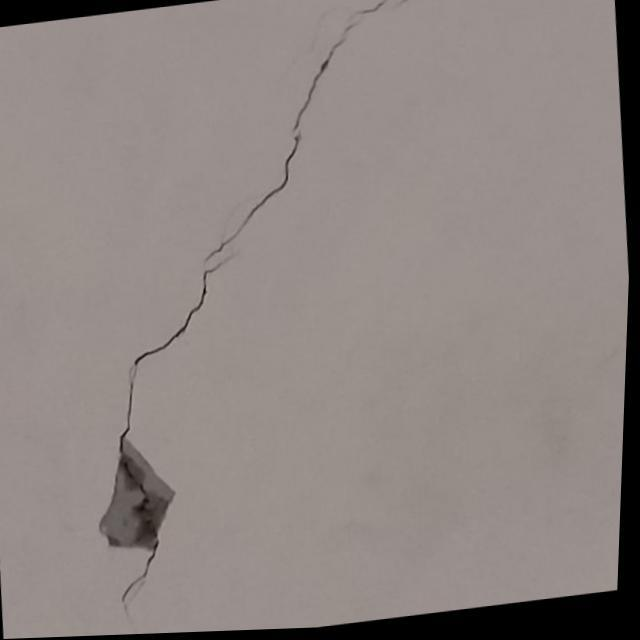Crack: (96, 20, 346, 622)
